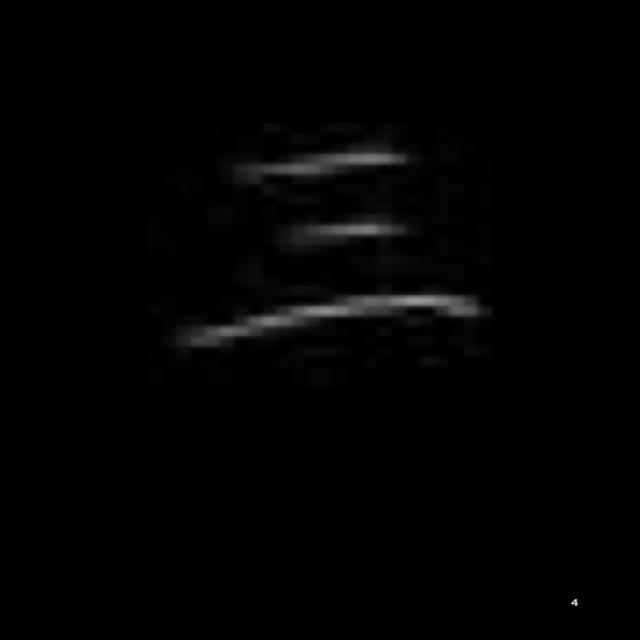3 -three-: (169, 137, 503, 357)
